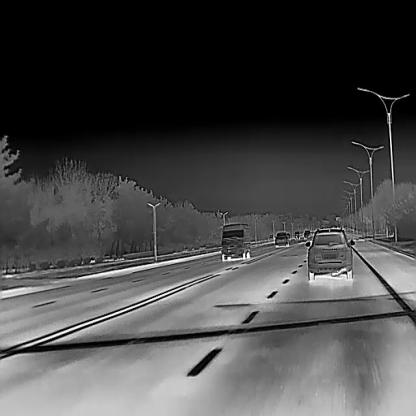car: (304, 228, 355, 280), (274, 231, 289, 247), (293, 230, 300, 240)
truck: (220, 223, 251, 260)
